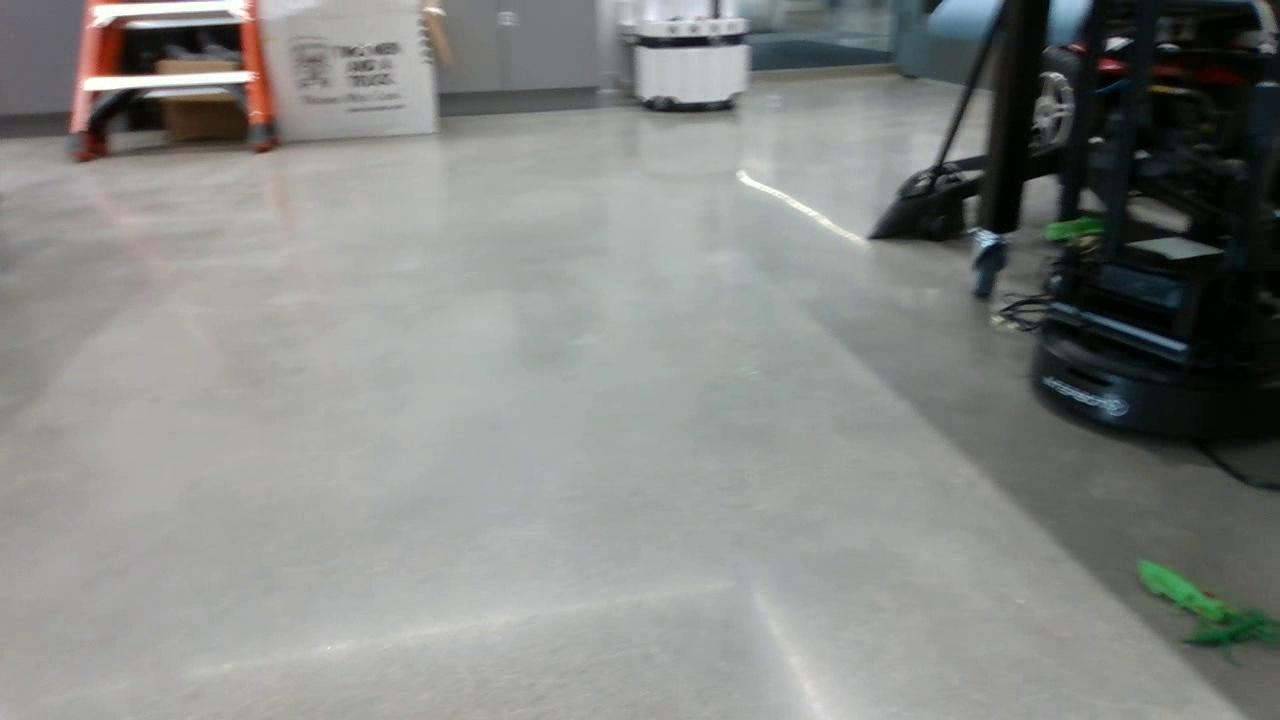grasshopper: (1134, 557, 1227, 625), (1042, 209, 1096, 245)
